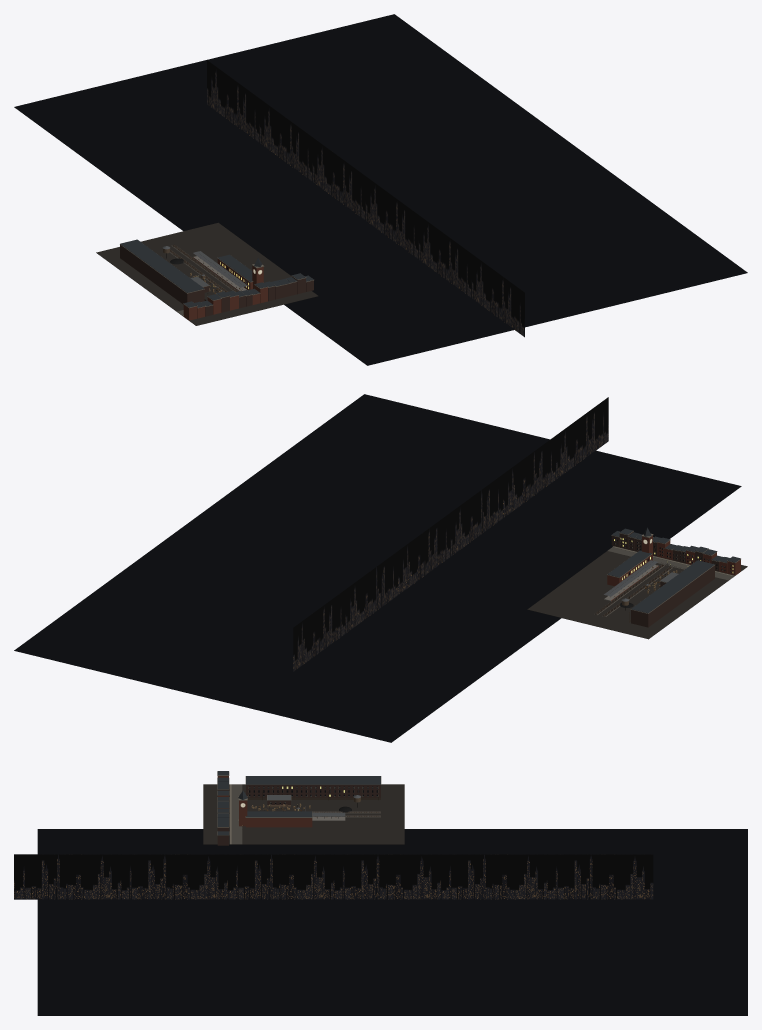
The model's file is hoboken_yard.glb.
3 renders of one model, top to bottom at view 1: azimuth 30°, elevation 25°; view 2: azimuth 150°, elevation 25°; view 3: azimuth 270°, elevation 25°, orthographic.
Parts seen in each view (by area): view 1: River, Skyline, Yard_Ground-col, RowHouses, Warehouses, Station-col; view 2: River, Skyline, Yard_Ground-col, Warehouses, RowHouses, Station-col; view 3: River, Skyline, Yard_Ground-col, Warehouses, Station-col, RowHouses, Street-col.
Boxes of the visible parts, left/top/right/bottom form: River: left=14, top=14, right=747, bottom=365; Skyline: left=207, top=60, right=524, bottom=337; Yard_Ground-col: left=96, top=222, right=318, bottom=325; RowHouses: left=183, top=273, right=313, bottom=320; Warehouses: left=120, top=239, right=204, bottom=304; Station-col: left=217, top=254, right=264, bottom=289; River: left=14, top=394, right=741, bottom=742; Skyline: left=293, top=397, right=608, bottom=671; Yard_Ground-col: left=527, top=546, right=747, bottom=639; Warehouses: left=630, top=560, right=714, bottom=627; RowHouses: left=611, top=528, right=740, bottom=575; Station-col: left=607, top=527, right=653, bottom=586; River: left=37, top=829, right=747, bottom=1015; Skyline: left=14, top=854, right=653, bottom=899; Yard_Ground-col: left=203, top=784, right=404, bottom=844; Warehouses: left=245, top=776, right=381, bottom=797; Station-col: left=238, top=790, right=312, bottom=827; RowHouses: left=217, top=771, right=229, bottom=845; Street-col: left=230, top=784, right=242, bottom=844.
Size of what is drawn, in the model's own units: 460 by 47.3 by 620.
25 materials, 2 textured.
